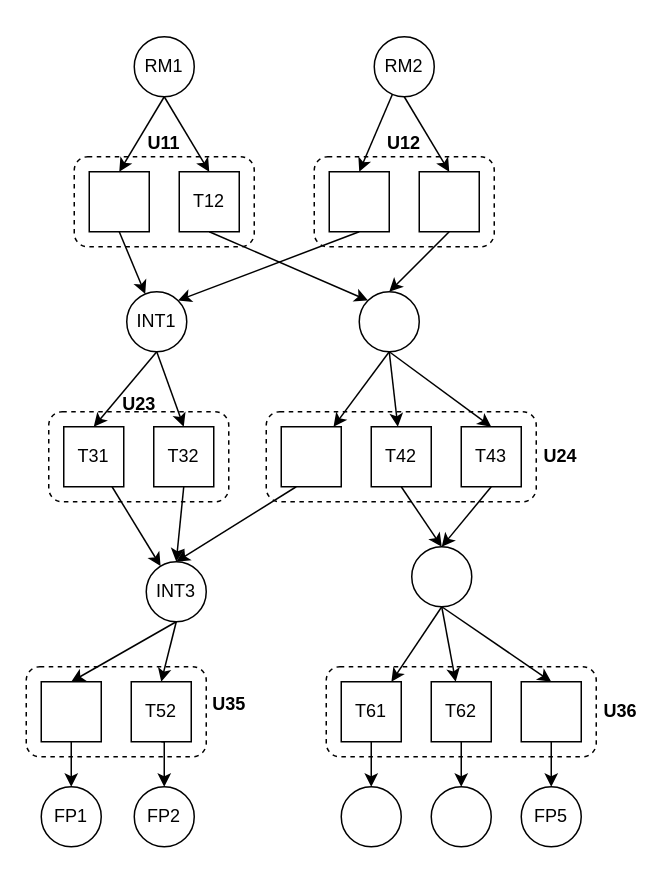
The diagram is 663 pixels wide and 873 high, and some of its shapes have lost their labels. Each missing label, with the centre of its shape:
"FP3" goes at [370,816].
"FP4" goes at [460,816].
"INT2" goes at [388,321].
"INT4" goes at [441,576].
"T11" goes at [118,201].
"T21" goes at [358,201].
"T22" goes at [448,201].
"T41" goes at [310,456].
"T51" goes at [70,711].
"T63" goes at [550,711].
